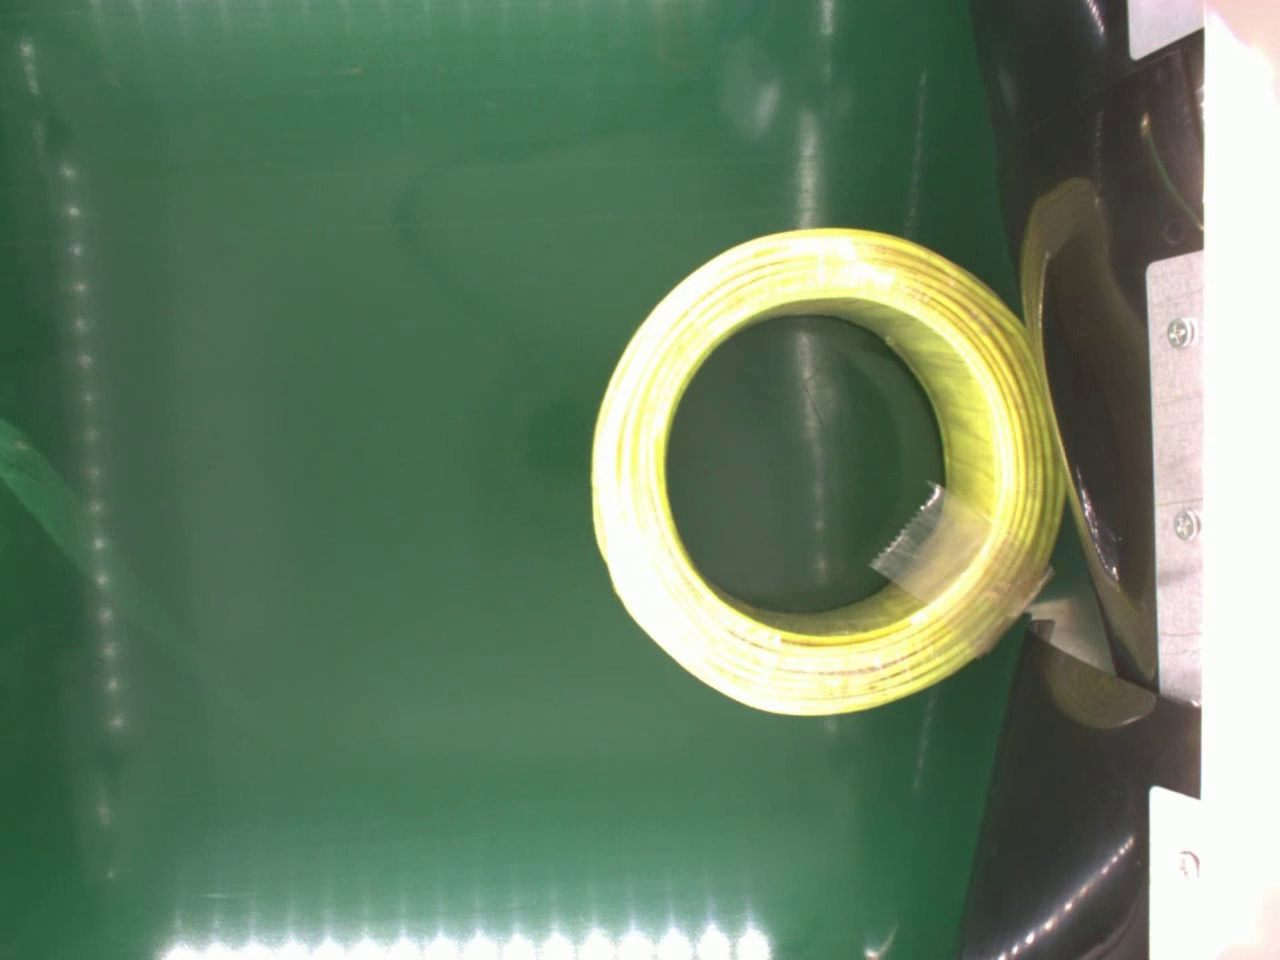yellow: (572, 225, 1070, 728)
